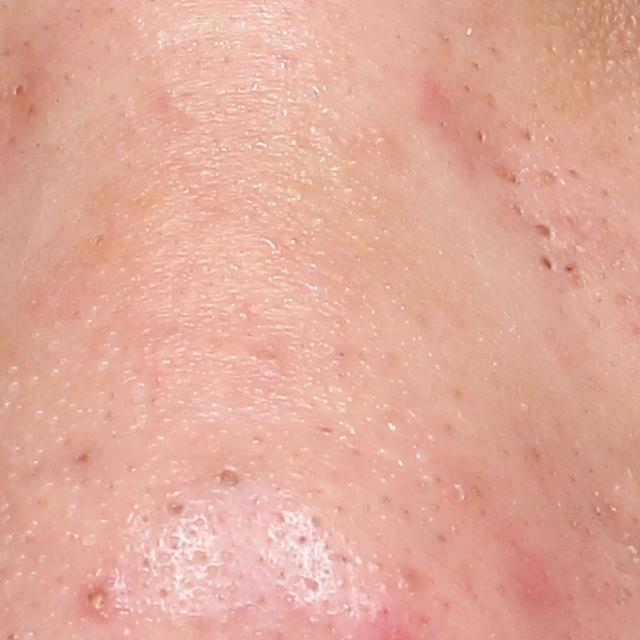atrophic_scar: (487, 165, 530, 189), (530, 222, 557, 244)
comedo: (212, 462, 244, 492), (537, 253, 557, 276), (72, 449, 93, 465), (475, 128, 486, 143)
pustule: (74, 570, 118, 623)
